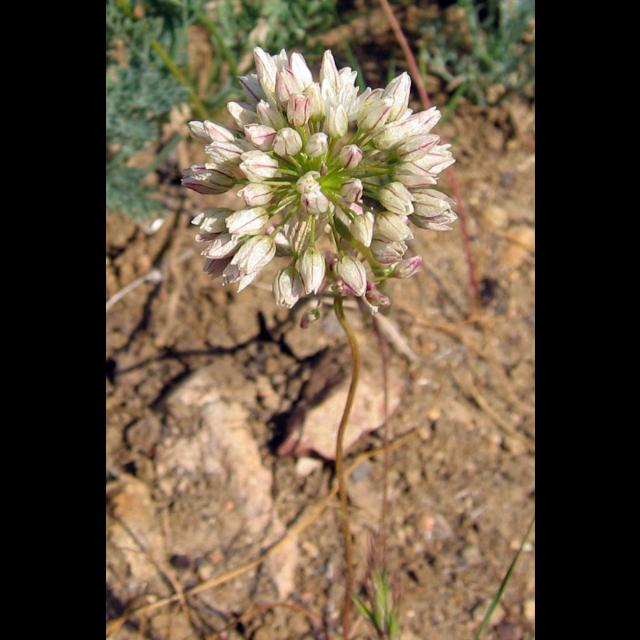Flower: (182, 45, 446, 327)
